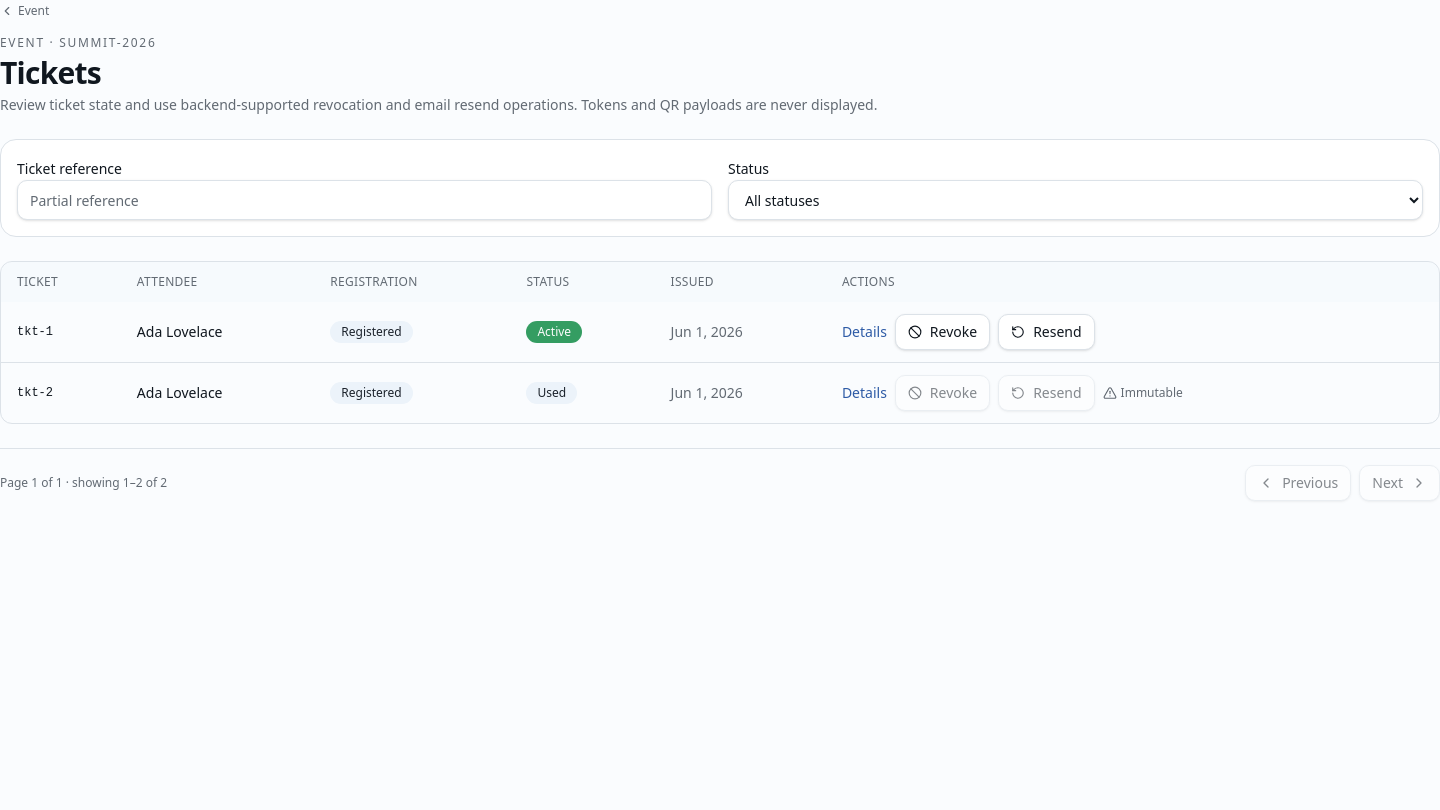
Test: ticket management › never renders ticket tokens or QR payloads
The image size is (1440, 810).
Expected: the text "tkt-1" is shown, [1,302,121,362]
Click the button "Details" in the row of "tkt-1": (864, 332) [842,322,887,342]
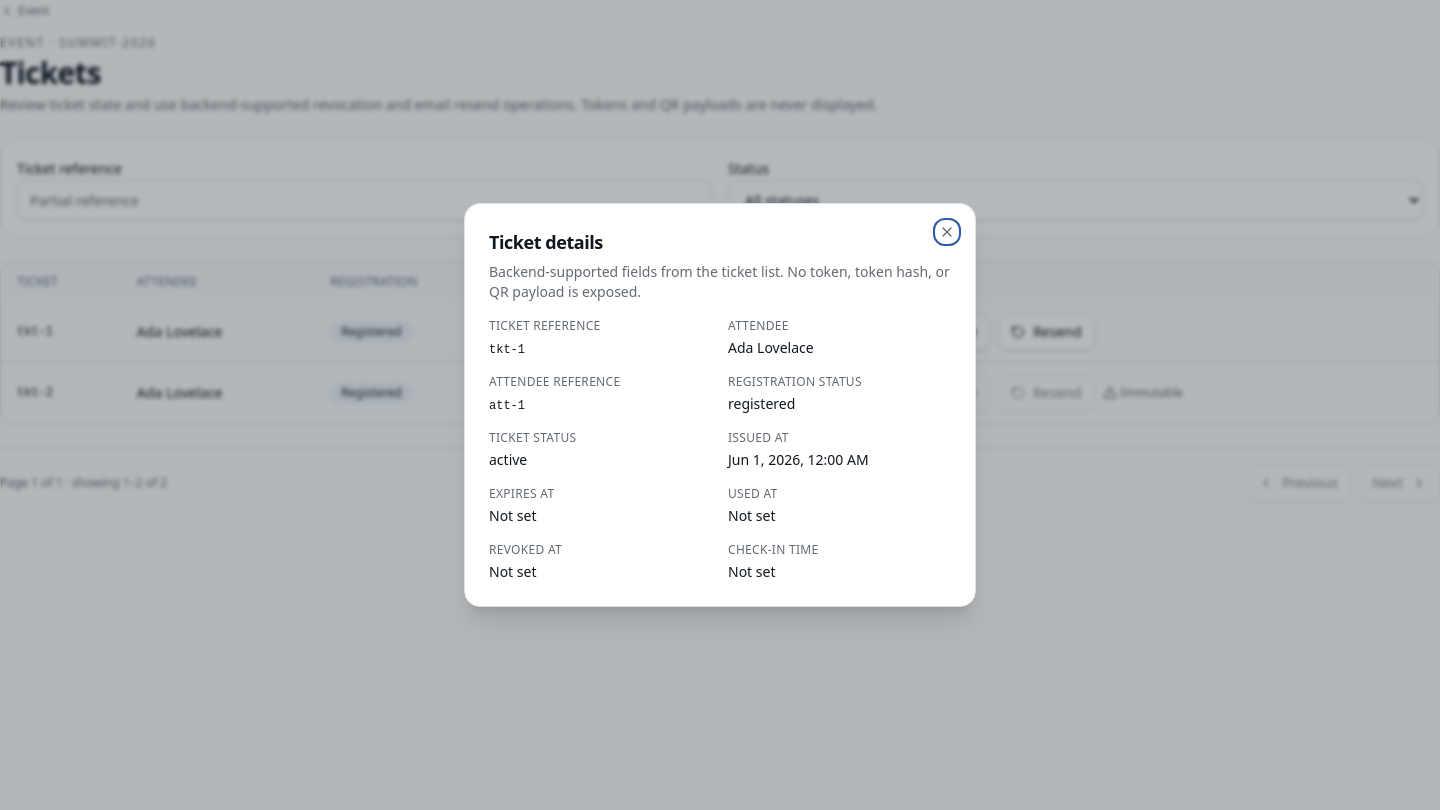
Now the heading "Ticket details" is shown, box [489,230,603,254]
